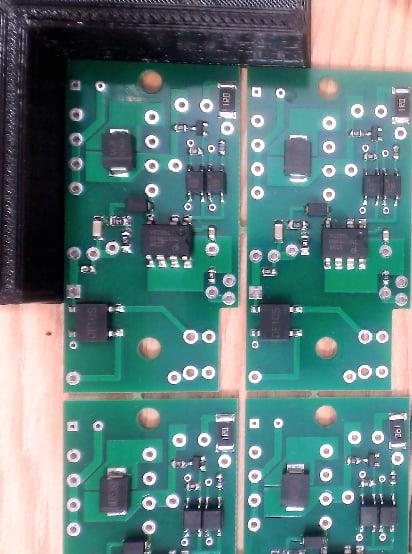chip-capacitor: (91, 214, 106, 241), (271, 217, 284, 244), (207, 224, 217, 242), (381, 226, 390, 244)
chip-resistor: (216, 79, 238, 120), (214, 412, 236, 453), (390, 85, 411, 127), (387, 411, 409, 451), (120, 229, 133, 255), (107, 215, 133, 227), (286, 219, 312, 231), (299, 231, 311, 256), (260, 265, 280, 277), (215, 472, 226, 492), (171, 122, 189, 134), (169, 458, 187, 470), (344, 454, 361, 466), (207, 266, 217, 285), (183, 482, 202, 492), (358, 479, 377, 489), (388, 469, 398, 488), (79, 264, 96, 275), (217, 138, 227, 156), (347, 128, 365, 138), (391, 144, 401, 162), (186, 147, 204, 156), (381, 268, 390, 286), (362, 152, 379, 161)
diode: (100, 127, 138, 178), (98, 466, 132, 518), (280, 462, 311, 513), (283, 133, 313, 184), (119, 538, 151, 554), (123, 197, 155, 212), (303, 202, 333, 217), (299, 534, 328, 549)
ic: (140, 212, 195, 269), (321, 216, 370, 271), (67, 301, 126, 343), (249, 300, 304, 341), (203, 496, 224, 538), (185, 163, 206, 203), (183, 497, 203, 539), (358, 493, 378, 534), (206, 163, 226, 203), (362, 167, 382, 207), (378, 493, 397, 534), (382, 167, 401, 207)
transistor: (187, 454, 209, 474), (190, 119, 211, 138), (362, 450, 382, 469), (365, 125, 385, 143)
